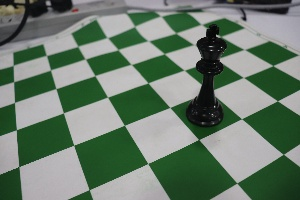black_king: (182, 17, 232, 135)
